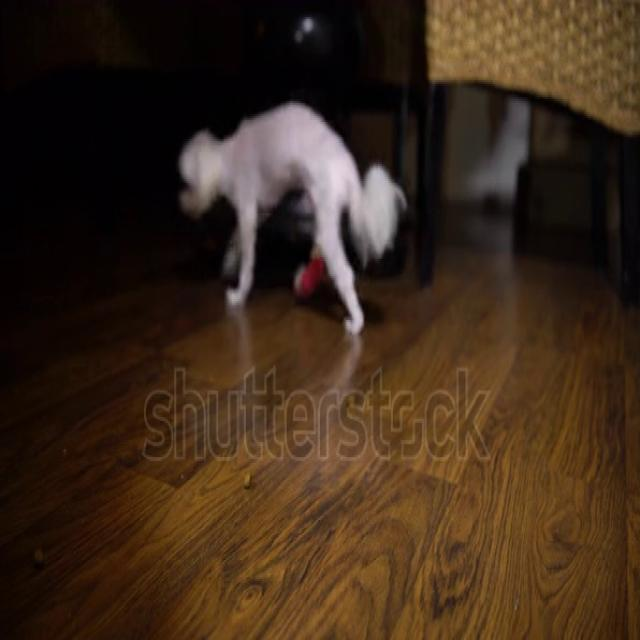injured-animals: (173, 93, 411, 341)
